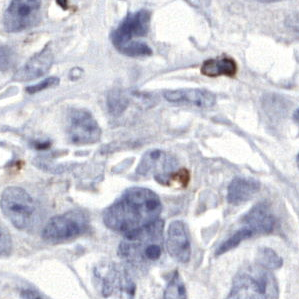Lymphocyte: (202, 53, 237, 78)
